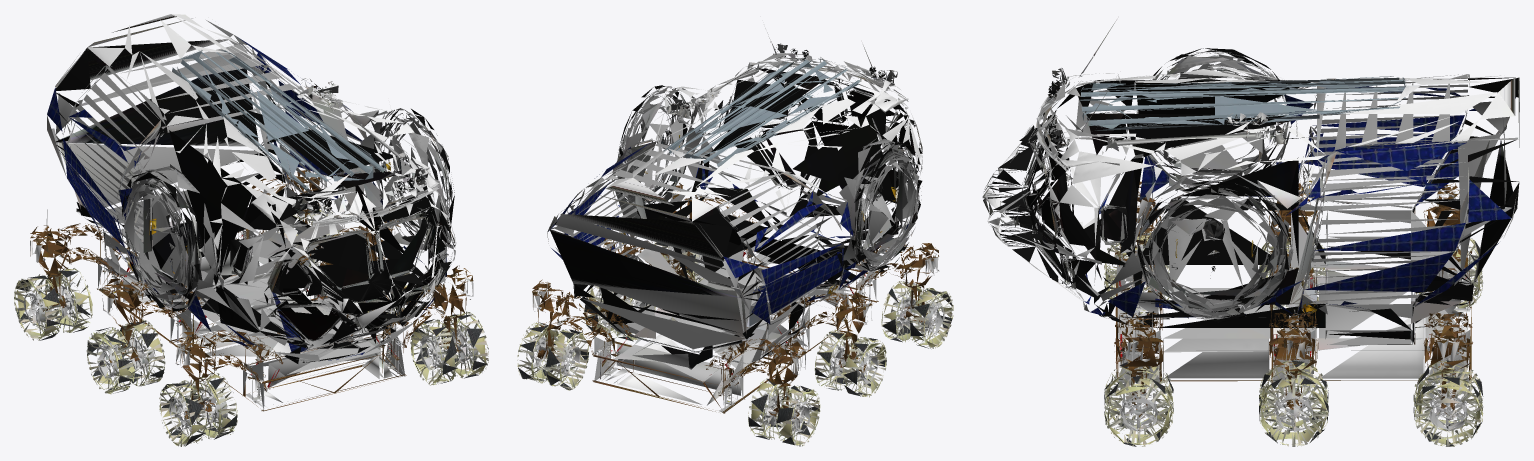
File: space-exploration-vehicle-web.glb
3 renders of one model, left to right at view 1: azimuth 30°, elevation 25°; view 2: azimuth 150°, elevation 25°; view 3: azimuth 270°, elevation 25°, orthographic. The views are drawn at different scales.
Visible parts, largest first — view 1: MMSEV; view 2: MMSEV; view 3: MMSEV.
Boxes of the visible parts, box(x1,y1,x2,y2) form: MMSEV: box(14, 14, 488, 446); MMSEV: box(517, 28, 953, 446); MMSEV: box(982, 20, 1519, 446).
Size of the model in its own units: 4.04 by 3.97 by 5.9.
Materials: 1 (1 with a texture image).
